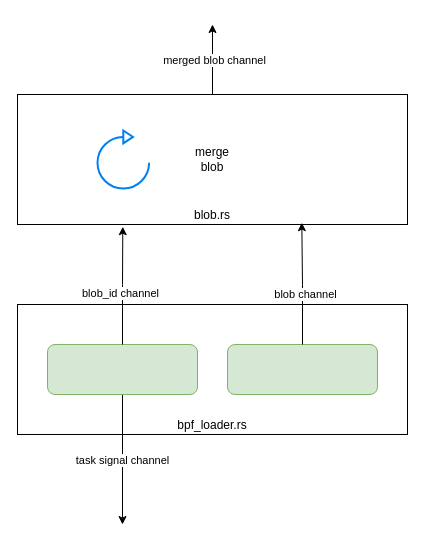
Image size: 425x550. Some labels were removed from this diagram. The centre of each missing label's shape, as x and y in pixels:
blob ringbuf: [302,369]
task ringbuf: [122,369]
